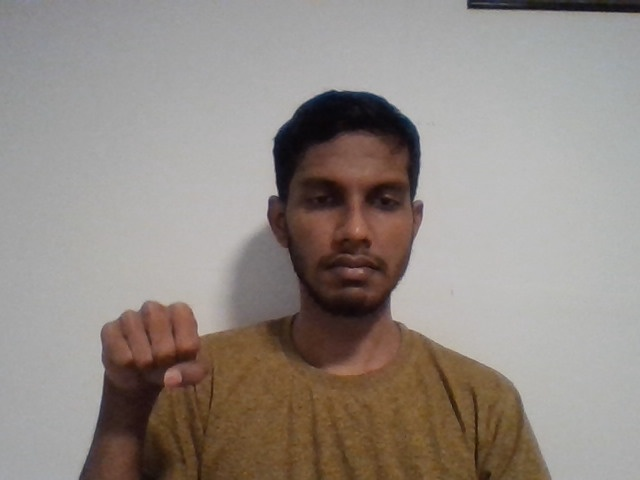yes: (79, 296, 232, 405)
